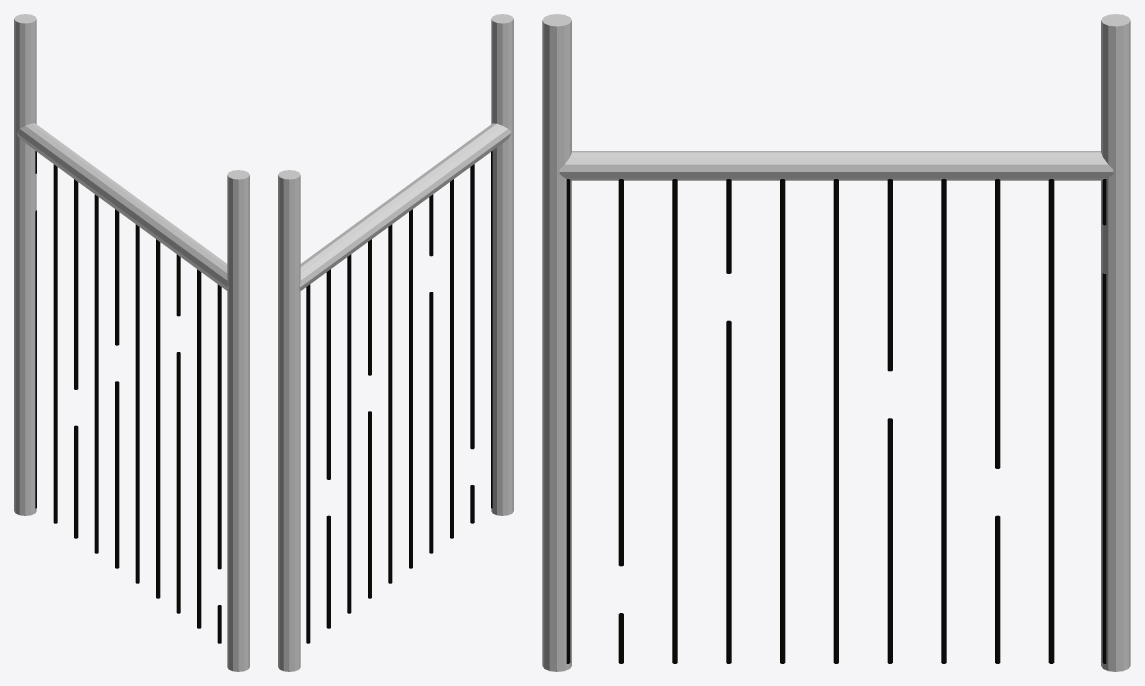
The model's file is Metal_Fence_039.fbx.
3 renders of one model, left to right at view 1: azimuth 30°, elevation 25°; view 2: azimuth 150°, elevation 25°; view 3: azimuth 270°, elevation 25°, orthographic. The views are drawn at different scales.
Parts seen in each view (by area): view 1: Metal Fence.039; view 2: Metal Fence.039; view 3: Metal Fence.039.
Boxes of the visible parts, x1,y1,x2,y2 form: Metal Fence.039: [14, 14, 249, 671]; Metal Fence.039: [278, 14, 513, 671]; Metal Fence.039: [542, 14, 1130, 671].
Size of the model in its own units: 25.89 by 621 by 513.
